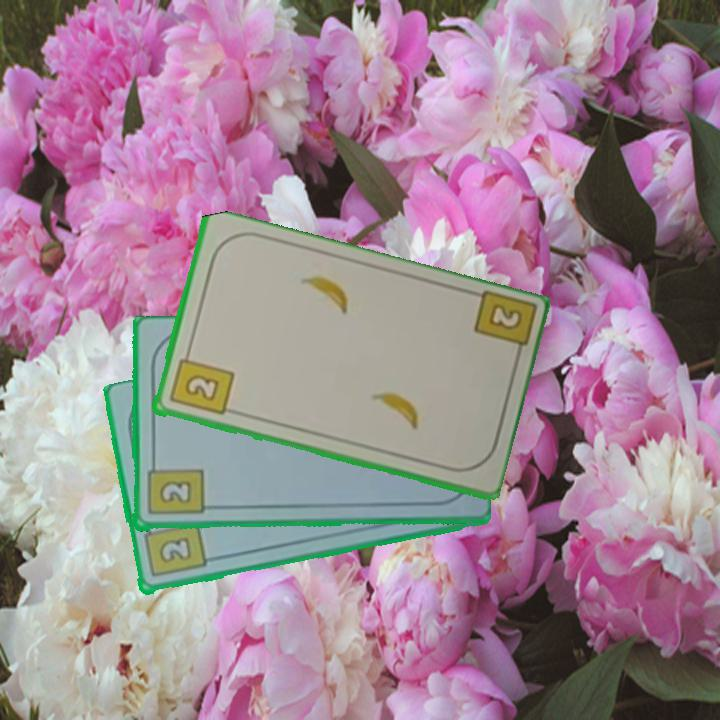2b: (166, 347, 236, 419), (469, 289, 535, 365), (140, 519, 208, 581), (143, 457, 205, 518)
